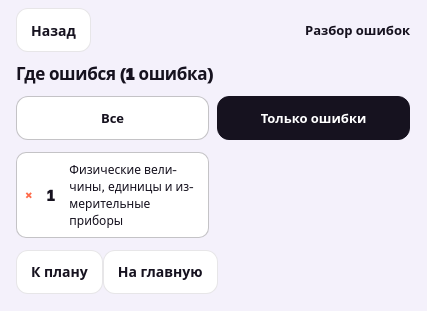
review filter › lists mistakes only until the student asks for every task
This screenshot has width=427, height=311.
Expected: the heading with id "review-list-title" reads "Где ошибся (1 ошибка)", x1=16 y1=63 x2=213 y2=84
Click the button "Все" at coordinates (112, 118), box x1=16 y1=96 x2=209 y2=140
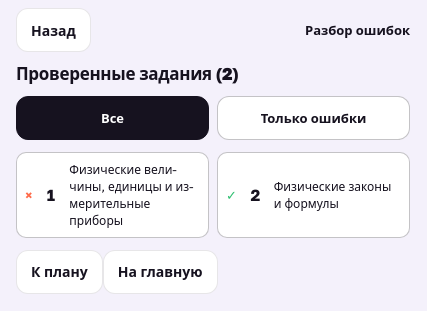
Now the heading with id "review-list-title" reads "Проверенные задания (2)", box x1=16 y1=63 x2=238 y2=84
